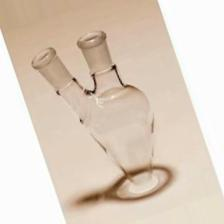Pear shaped flask: (24, 36, 161, 201)
